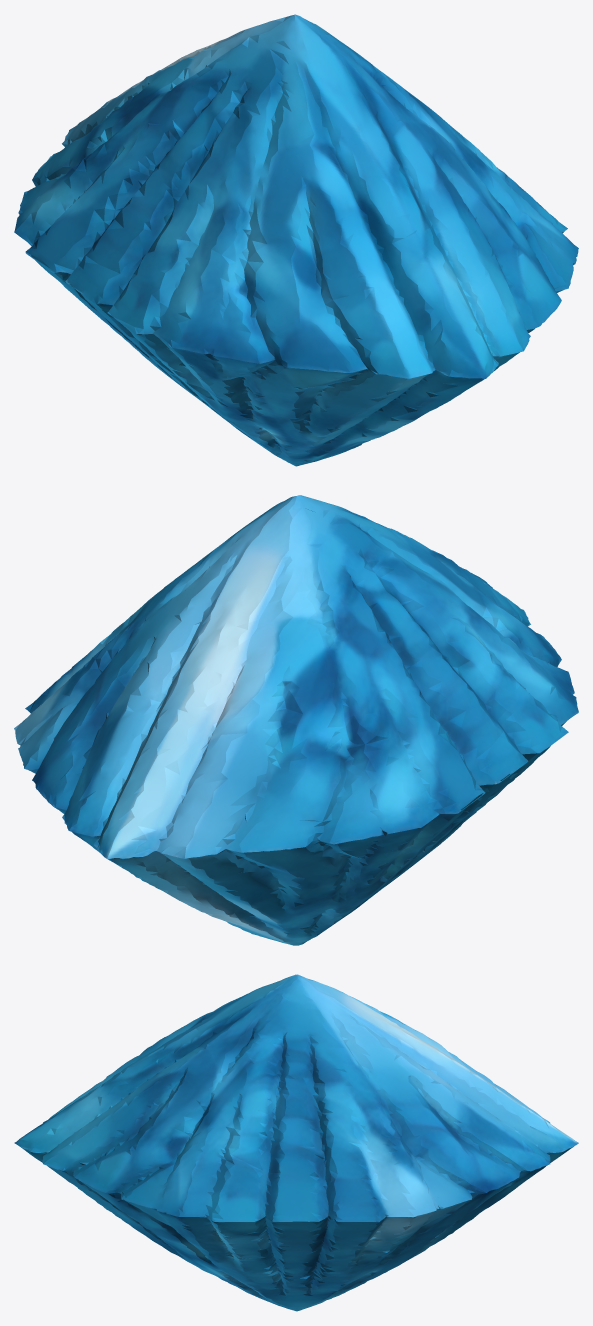
File: xp_gem.glb
3 views of the same model, one above another, from view 1: azimuth 30°, elevation 25°; view 2: azimuth 150°, elevation 25°; view 3: azimuth 270°, elevation 25° (orthographic). The views are drawn at different scales.
Parts seen in each view (by area): view 1: xp_gem; view 2: xp_gem; view 3: xp_gem.
Boxes of the visible parts, bbox=[...] form: xp_gem: bbox=[14, 14, 578, 466]; xp_gem: bbox=[14, 495, 578, 945]; xp_gem: bbox=[14, 974, 578, 1311].
Size of the model in its own units: 0.2493 by 0.2485 by 0.3783.
Materials: 1 (1 with a texture image).
